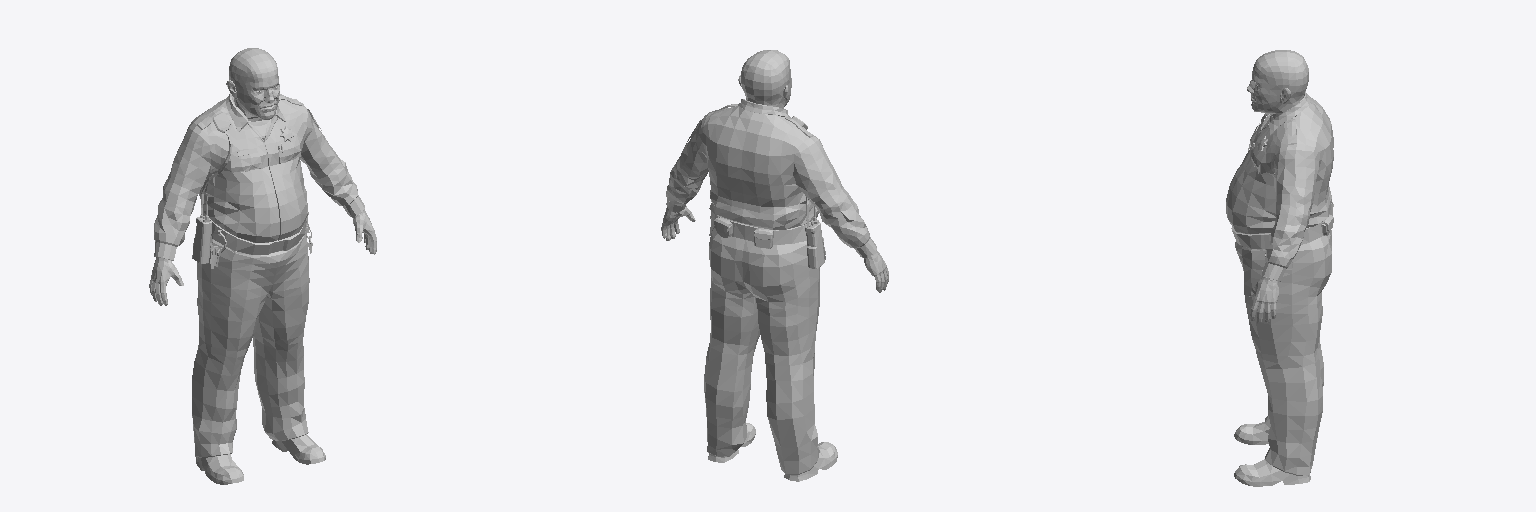
The model's file is PB Prison guard Williams.obj.
3 renders of one model, left to right at view 1: azimuth 30°, elevation 25°; view 2: azimuth 150°, elevation 25°; view 3: azimuth 270°, elevation 25°, orthographic.
Parts seen in each view (by area): view 1: Mesh_0082_Tex_0081_0_, Mesh_0054_Tex_0054_0_; view 2: Mesh_0082_Tex_0081_0_, Mesh_0054_Tex_0054_0_; view 3: Mesh_0082_Tex_0081_0_, Mesh_0054_Tex_0054_0_.
Boxes of the visible parts, x1,y1,x2,y2 form: Mesh_0082_Tex_0081_0_: [149, 93, 376, 484]; Mesh_0054_Tex_0054_0_: [226, 48, 279, 121]; Mesh_0082_Tex_0081_0_: [661, 99, 888, 481]; Mesh_0054_Tex_0054_0_: [738, 50, 791, 108]; Mesh_0082_Tex_0081_0_: [1226, 91, 1333, 486]; Mesh_0054_Tex_0054_0_: [1247, 50, 1308, 119].
Size of the model in its own units: 1.04 by 1.84 by 0.4416.